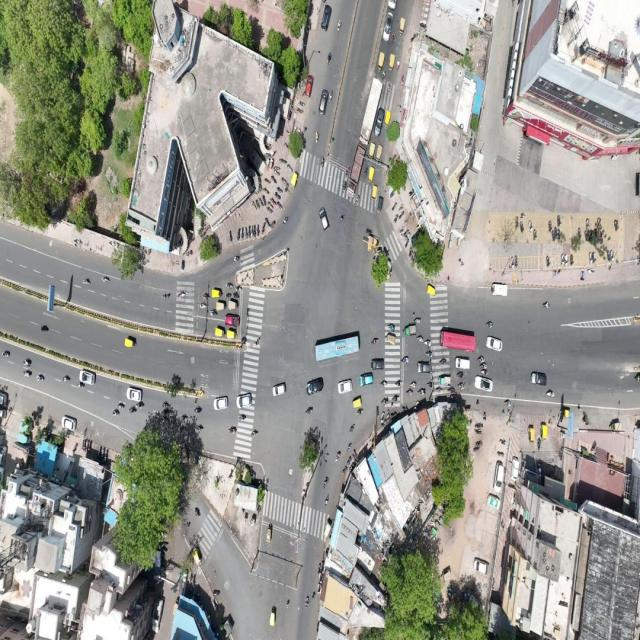3W: (267, 601, 280, 630), (375, 46, 386, 73), (122, 335, 139, 351), (192, 542, 202, 568), (402, 322, 418, 338), (525, 424, 536, 447), (426, 282, 438, 302), (375, 144, 385, 167), (265, 524, 274, 546), (384, 332, 396, 348), (349, 395, 365, 407), (292, 171, 302, 190), (376, 195, 384, 218), (398, 15, 406, 38), (370, 184, 378, 206), (439, 375, 453, 387), (389, 52, 396, 76), (214, 327, 225, 341), (541, 422, 549, 441), (367, 143, 375, 162), (211, 288, 223, 300), (226, 328, 237, 341), (215, 301, 226, 313), (368, 167, 375, 185), (386, 110, 392, 131)
Bus: (312, 334, 363, 363)
Cars: (315, 203, 332, 238), (491, 459, 506, 497), (489, 280, 512, 303), (317, 3, 333, 35), (471, 556, 493, 578), (305, 376, 327, 397), (526, 368, 549, 388), (60, 412, 79, 435), (474, 376, 497, 395), (317, 85, 329, 119), (302, 71, 316, 98), (234, 394, 256, 411), (486, 334, 505, 353), (79, 366, 97, 386), (124, 384, 144, 402), (381, 12, 393, 41), (271, 381, 288, 400), (335, 378, 352, 396), (222, 312, 241, 328), (455, 355, 472, 372), (212, 396, 231, 411), (374, 108, 383, 139), (369, 355, 385, 372), (358, 373, 375, 386), (415, 361, 433, 373)
M2W: (192, 502, 204, 522), (542, 297, 554, 316), (253, 332, 263, 352), (304, 404, 316, 420), (370, 331, 380, 349), (312, 127, 321, 147), (326, 50, 335, 70), (321, 474, 330, 493), (333, 447, 342, 466), (334, 17, 343, 36), (482, 318, 496, 330), (471, 418, 486, 429), (323, 493, 332, 511), (1, 345, 11, 361), (112, 408, 122, 423), (236, 412, 248, 424), (594, 211, 603, 227), (399, 353, 410, 366), (378, 376, 389, 389), (36, 370, 46, 384), (250, 427, 260, 441), (439, 355, 449, 369), (269, 196, 279, 210), (328, 90, 336, 107), (128, 404, 137, 419), (504, 395, 513, 410), (353, 192, 362, 207), (304, 592, 311, 611), (21, 370, 33, 381), (39, 324, 50, 336), (612, 216, 619, 234), (606, 249, 615, 263), (100, 274, 111, 285), (267, 174, 278, 185), (23, 356, 33, 368), (387, 320, 397, 332), (282, 139, 292, 151), (342, 176, 349, 193), (63, 372, 72, 385), (544, 390, 557, 399), (337, 212, 346, 225), (390, 212, 399, 225), (398, 75, 407, 88), (243, 223, 249, 242), (348, 420, 355, 436), (519, 219, 526, 235), (319, 156, 326, 172), (225, 279, 235, 290), (83, 277, 92, 289), (229, 424, 238, 436), (500, 435, 509, 447), (472, 427, 484, 436), (392, 392, 401, 404), (380, 395, 389, 407), (509, 255, 515, 273), (198, 300, 207, 312), (342, 163, 351, 175), (161, 290, 169, 303), (395, 376, 403, 389), (545, 253, 551, 270), (557, 211, 563, 228), (560, 253, 566, 270), (587, 250, 593, 267), (577, 224, 583, 241), (252, 223, 258, 240), (537, 433, 542, 453), (425, 350, 435, 360), (137, 401, 146, 412), (455, 369, 466, 378), (354, 409, 365, 418), (232, 253, 241, 264), (391, 198, 398, 212), (379, 409, 385, 425), (283, 215, 291, 227), (227, 228, 233, 244), (236, 227, 242, 243), (281, 176, 288, 189), (399, 200, 406, 213), (76, 383, 86, 392), (415, 315, 425, 324), (415, 335, 424, 345), (424, 337, 433, 347), (458, 381, 467, 391), (202, 292, 212, 301), (279, 154, 288, 164), (295, 107, 305, 116), (363, 163, 368, 181), (386, 80, 392, 95), (345, 442, 353, 453), (118, 400, 125, 412), (250, 201, 257, 213), (403, 236, 410, 248), (417, 388, 426, 397), (426, 380, 435, 389), (209, 309, 218, 318), (236, 283, 245, 292), (284, 128, 293, 137), (435, 384, 443, 394), (515, 252, 519, 272), (514, 214, 519, 230), (569, 252, 574, 268), (234, 290, 242, 300), (298, 98, 306, 108), (478, 369, 491, 375), (547, 218, 553, 231), (495, 450, 506, 457), (406, 387, 413, 398), (386, 409, 391, 424), (533, 227, 538, 242), (479, 362, 488, 370), (529, 217, 533, 235), (396, 59, 402, 71), (448, 386, 455, 396), (262, 193, 267, 207), (263, 217, 270, 227), (411, 378, 417, 389), (381, 69, 386, 82), (178, 291, 186, 299), (392, 29, 396, 45), (399, 224, 405, 234), (478, 355, 485, 363), (225, 291, 232, 299)
Truck: (354, 75, 384, 145), (347, 144, 367, 203)
